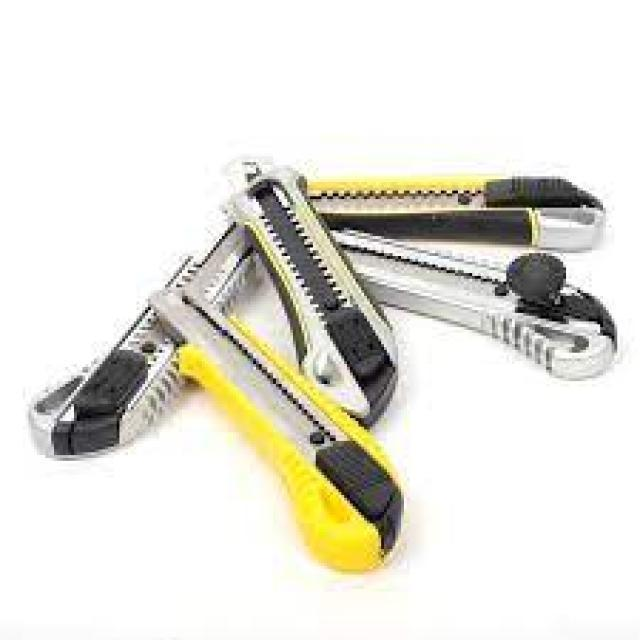cutter: (142, 281, 424, 581), (19, 207, 282, 463), (205, 142, 412, 436), (306, 225, 626, 387), (290, 174, 616, 263)
